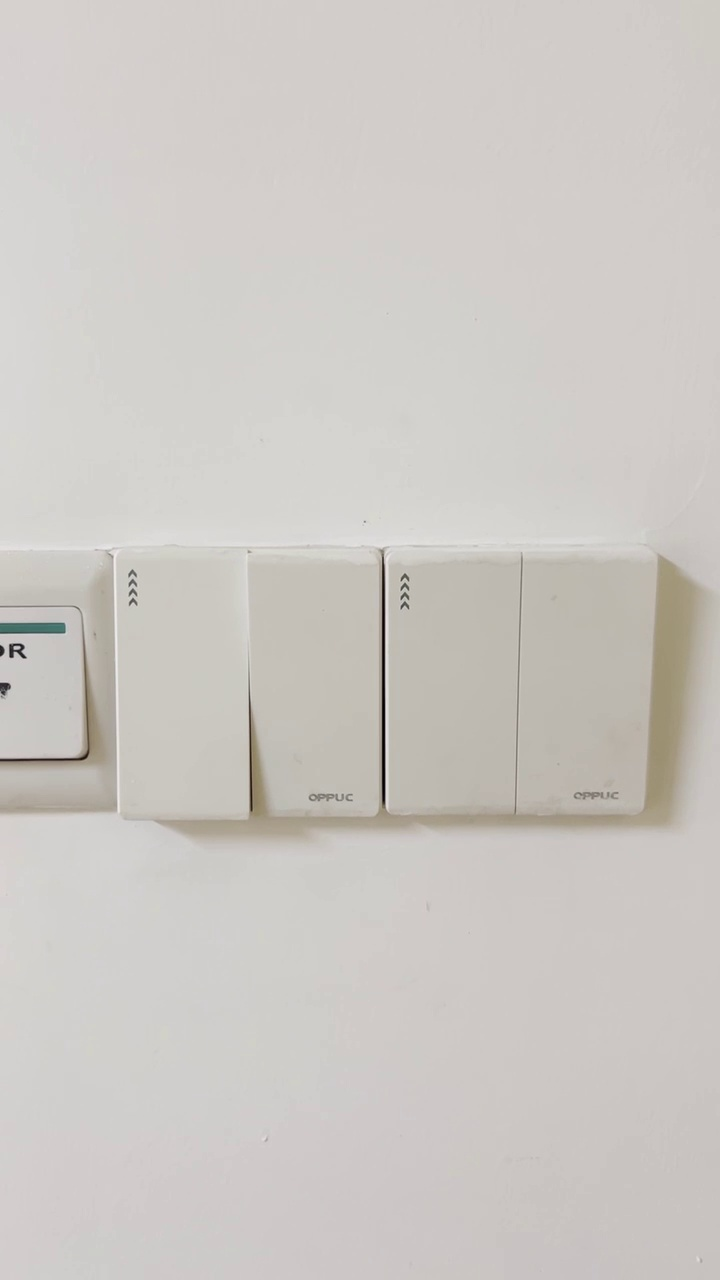button1: (117, 555, 243, 818), (521, 551, 646, 813), (393, 557, 513, 810), (255, 560, 376, 810)
